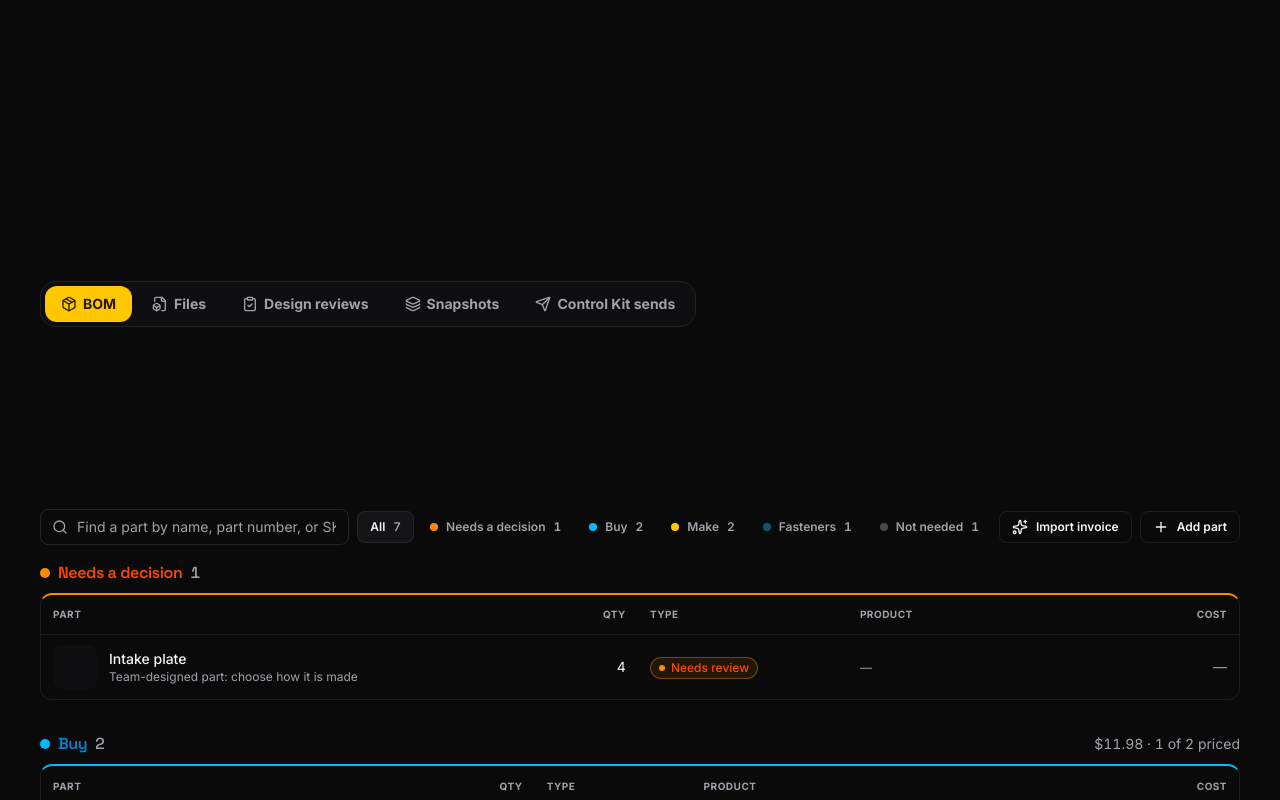
Test case: a robot's BOM › chooses how a part is made, and a product from its matches; both say they reach Control Kit at its next scan
Click the button "Intake plate": (148, 659) [109,649,186,669]
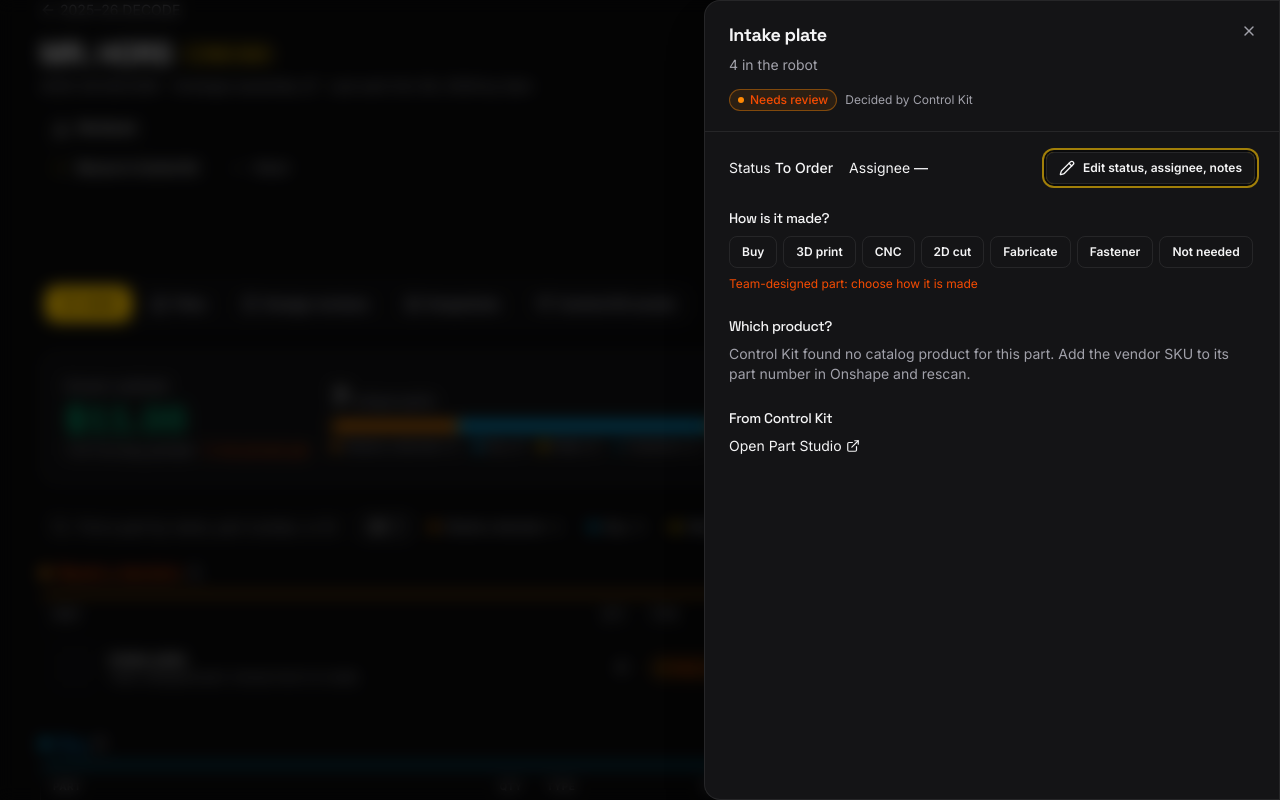
Click the button "3D print": (820, 252) [783,236,856,268]
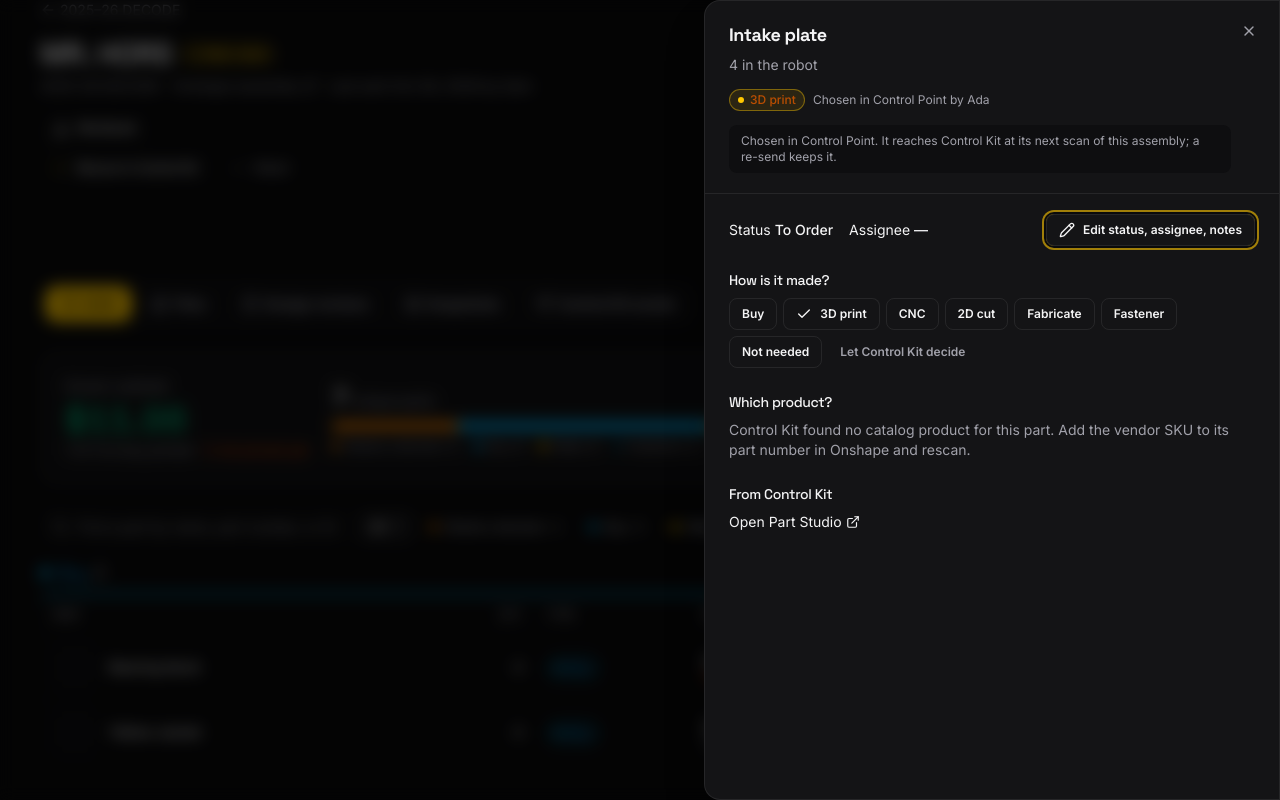
Now the text "reaches Control Kit at its next scan" is shown, box [741,133,1200,164]
Press Escape in the dialog, box [704,0,1279,799]
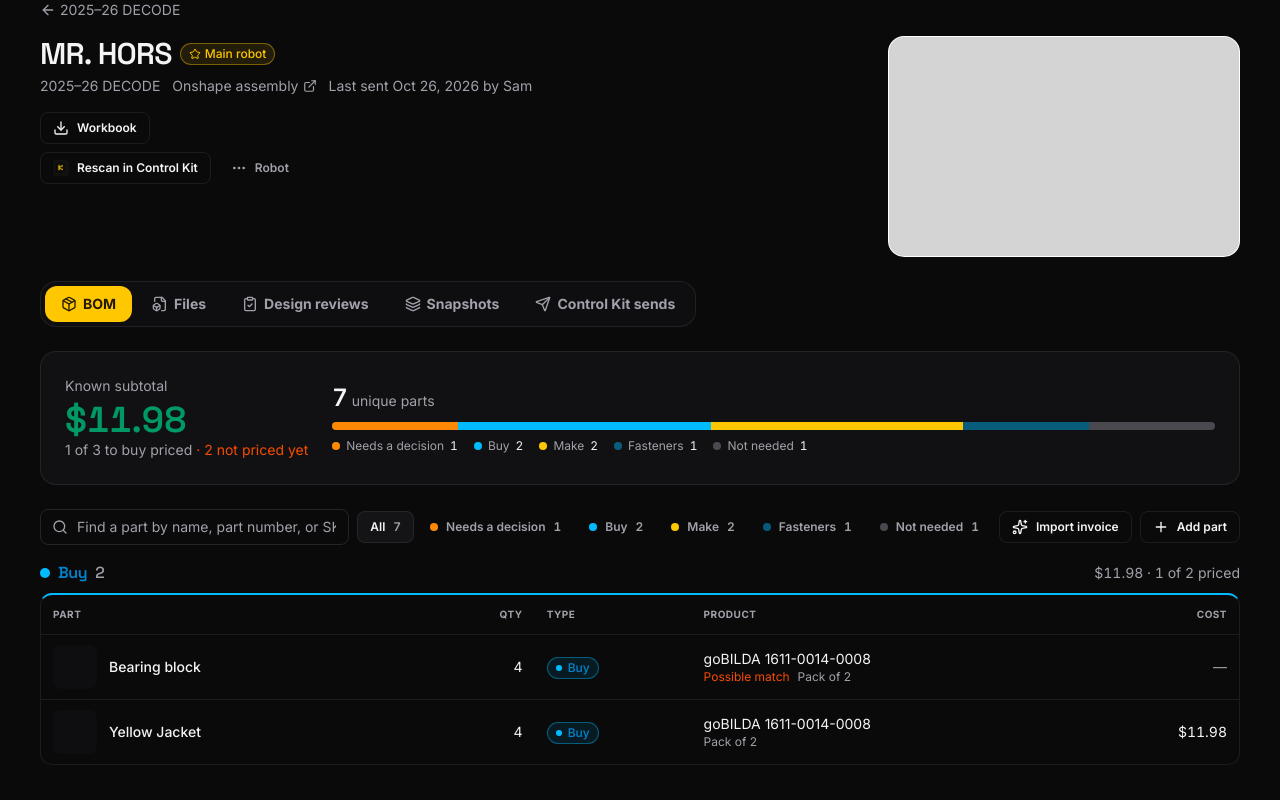
Now the dialog is gone
Click the button "Bearing block": (155, 667) [109,657,201,677]
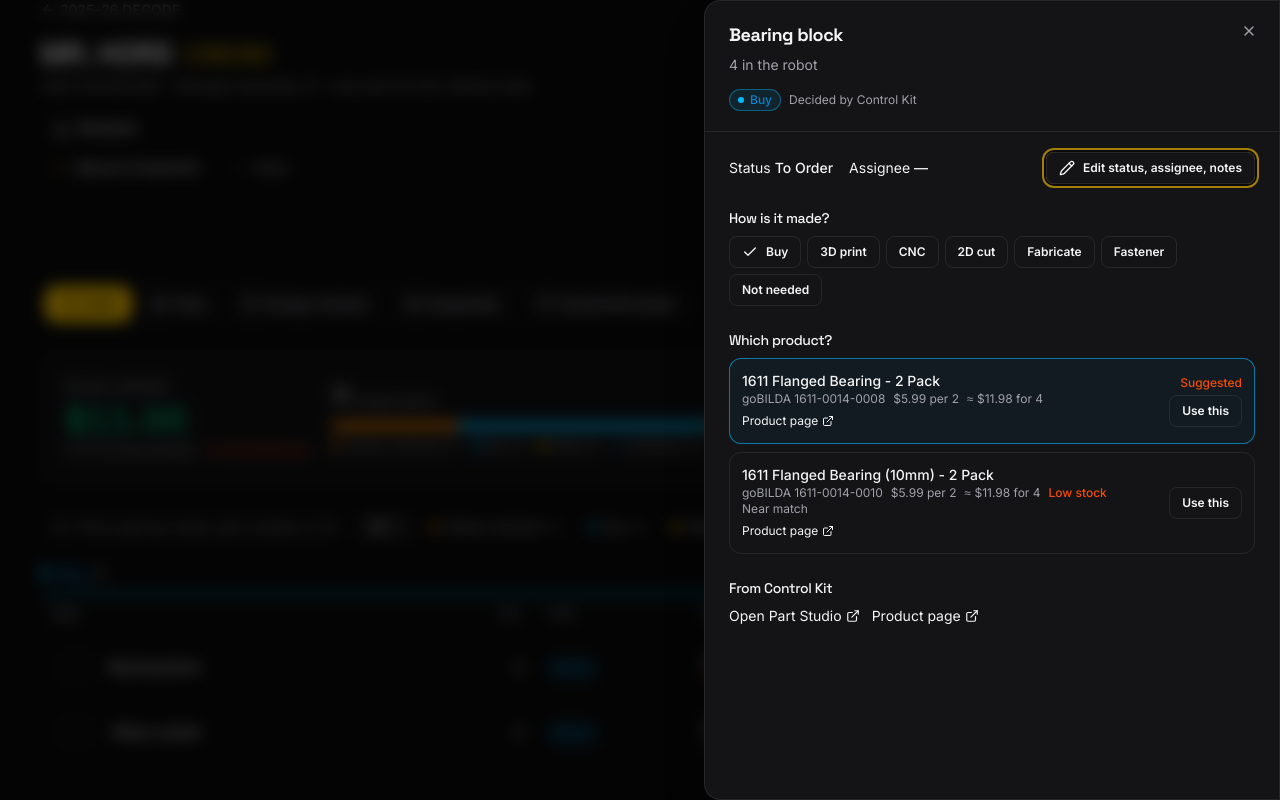
Now the text "Suggested" is shown, box [1180,375,1242,391]
Now the text "Low stock" is shown, box [1048,485,1107,501]
Now the text "≈ $11.98 for 4" next to "Low stock" is shown, box [964,485,1040,501]
Click the button "Use this" below "1611 Flanged Bearing (10mm) - 2 Pack": (1206, 503) [1169,487,1242,519]
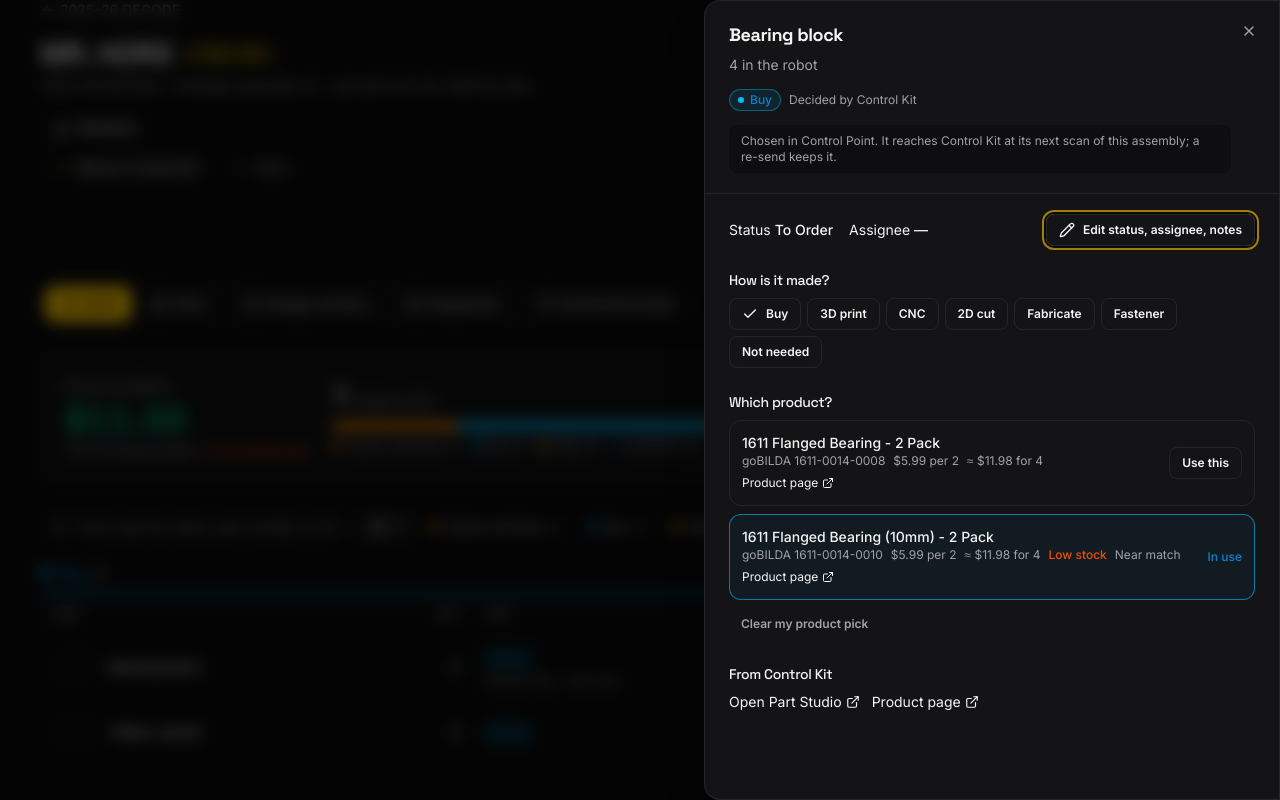
Now the text "In use" is shown, box [1208,549,1242,565]
